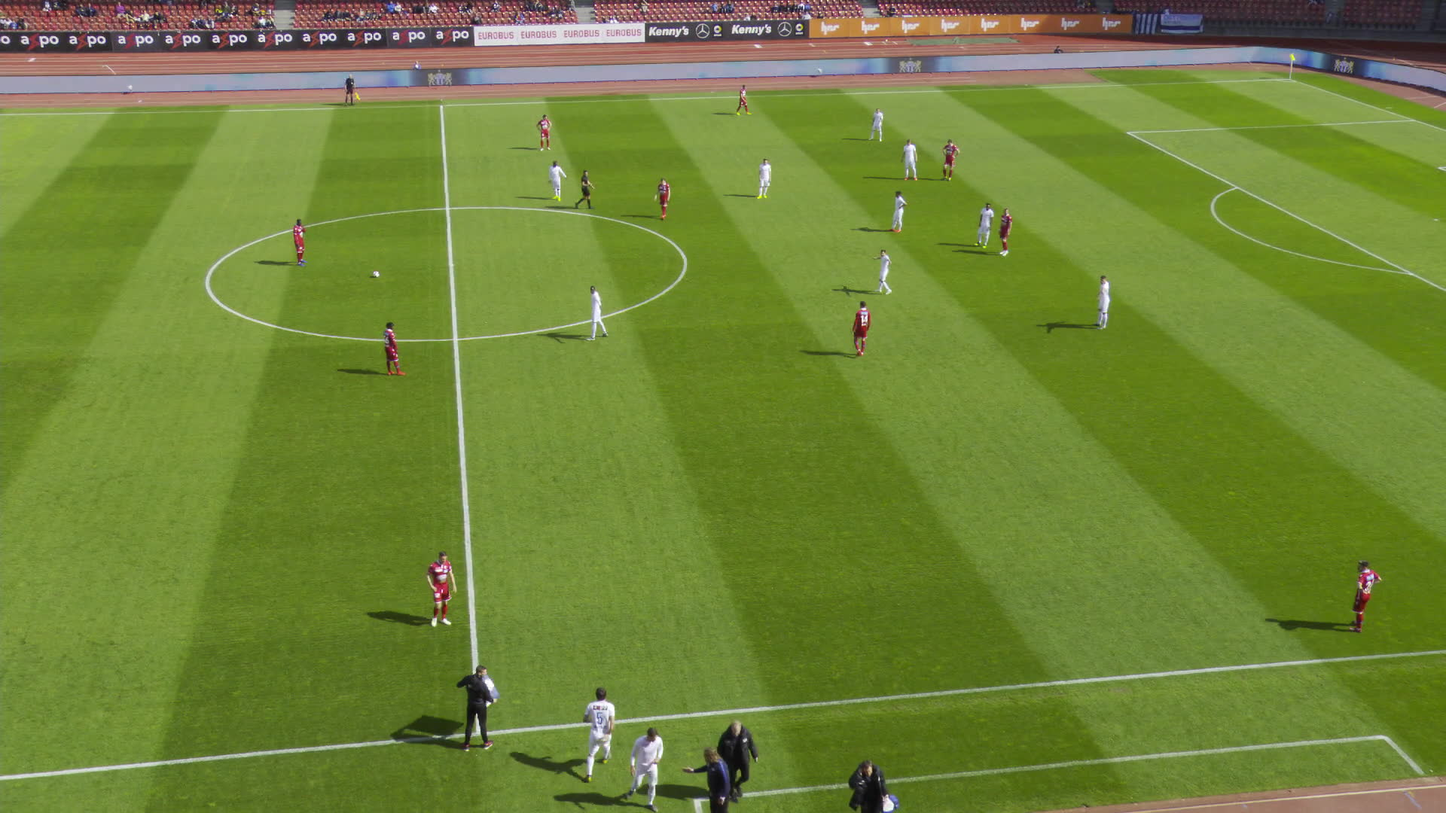ball: (370, 270, 378, 278)
player: (581, 681, 625, 780), (627, 726, 664, 812), (1343, 556, 1383, 635), (423, 551, 456, 629), (380, 320, 404, 376), (847, 301, 870, 358), (869, 247, 892, 297), (1091, 273, 1109, 330), (587, 285, 605, 339), (886, 189, 908, 233), (899, 138, 918, 184), (974, 202, 992, 250), (545, 160, 566, 200), (940, 139, 959, 182), (996, 208, 1011, 257), (291, 218, 306, 265), (754, 157, 770, 199), (534, 114, 551, 151), (656, 178, 671, 218), (867, 107, 882, 144), (734, 83, 747, 117)
referee: (340, 72, 355, 108), (578, 169, 591, 209)
